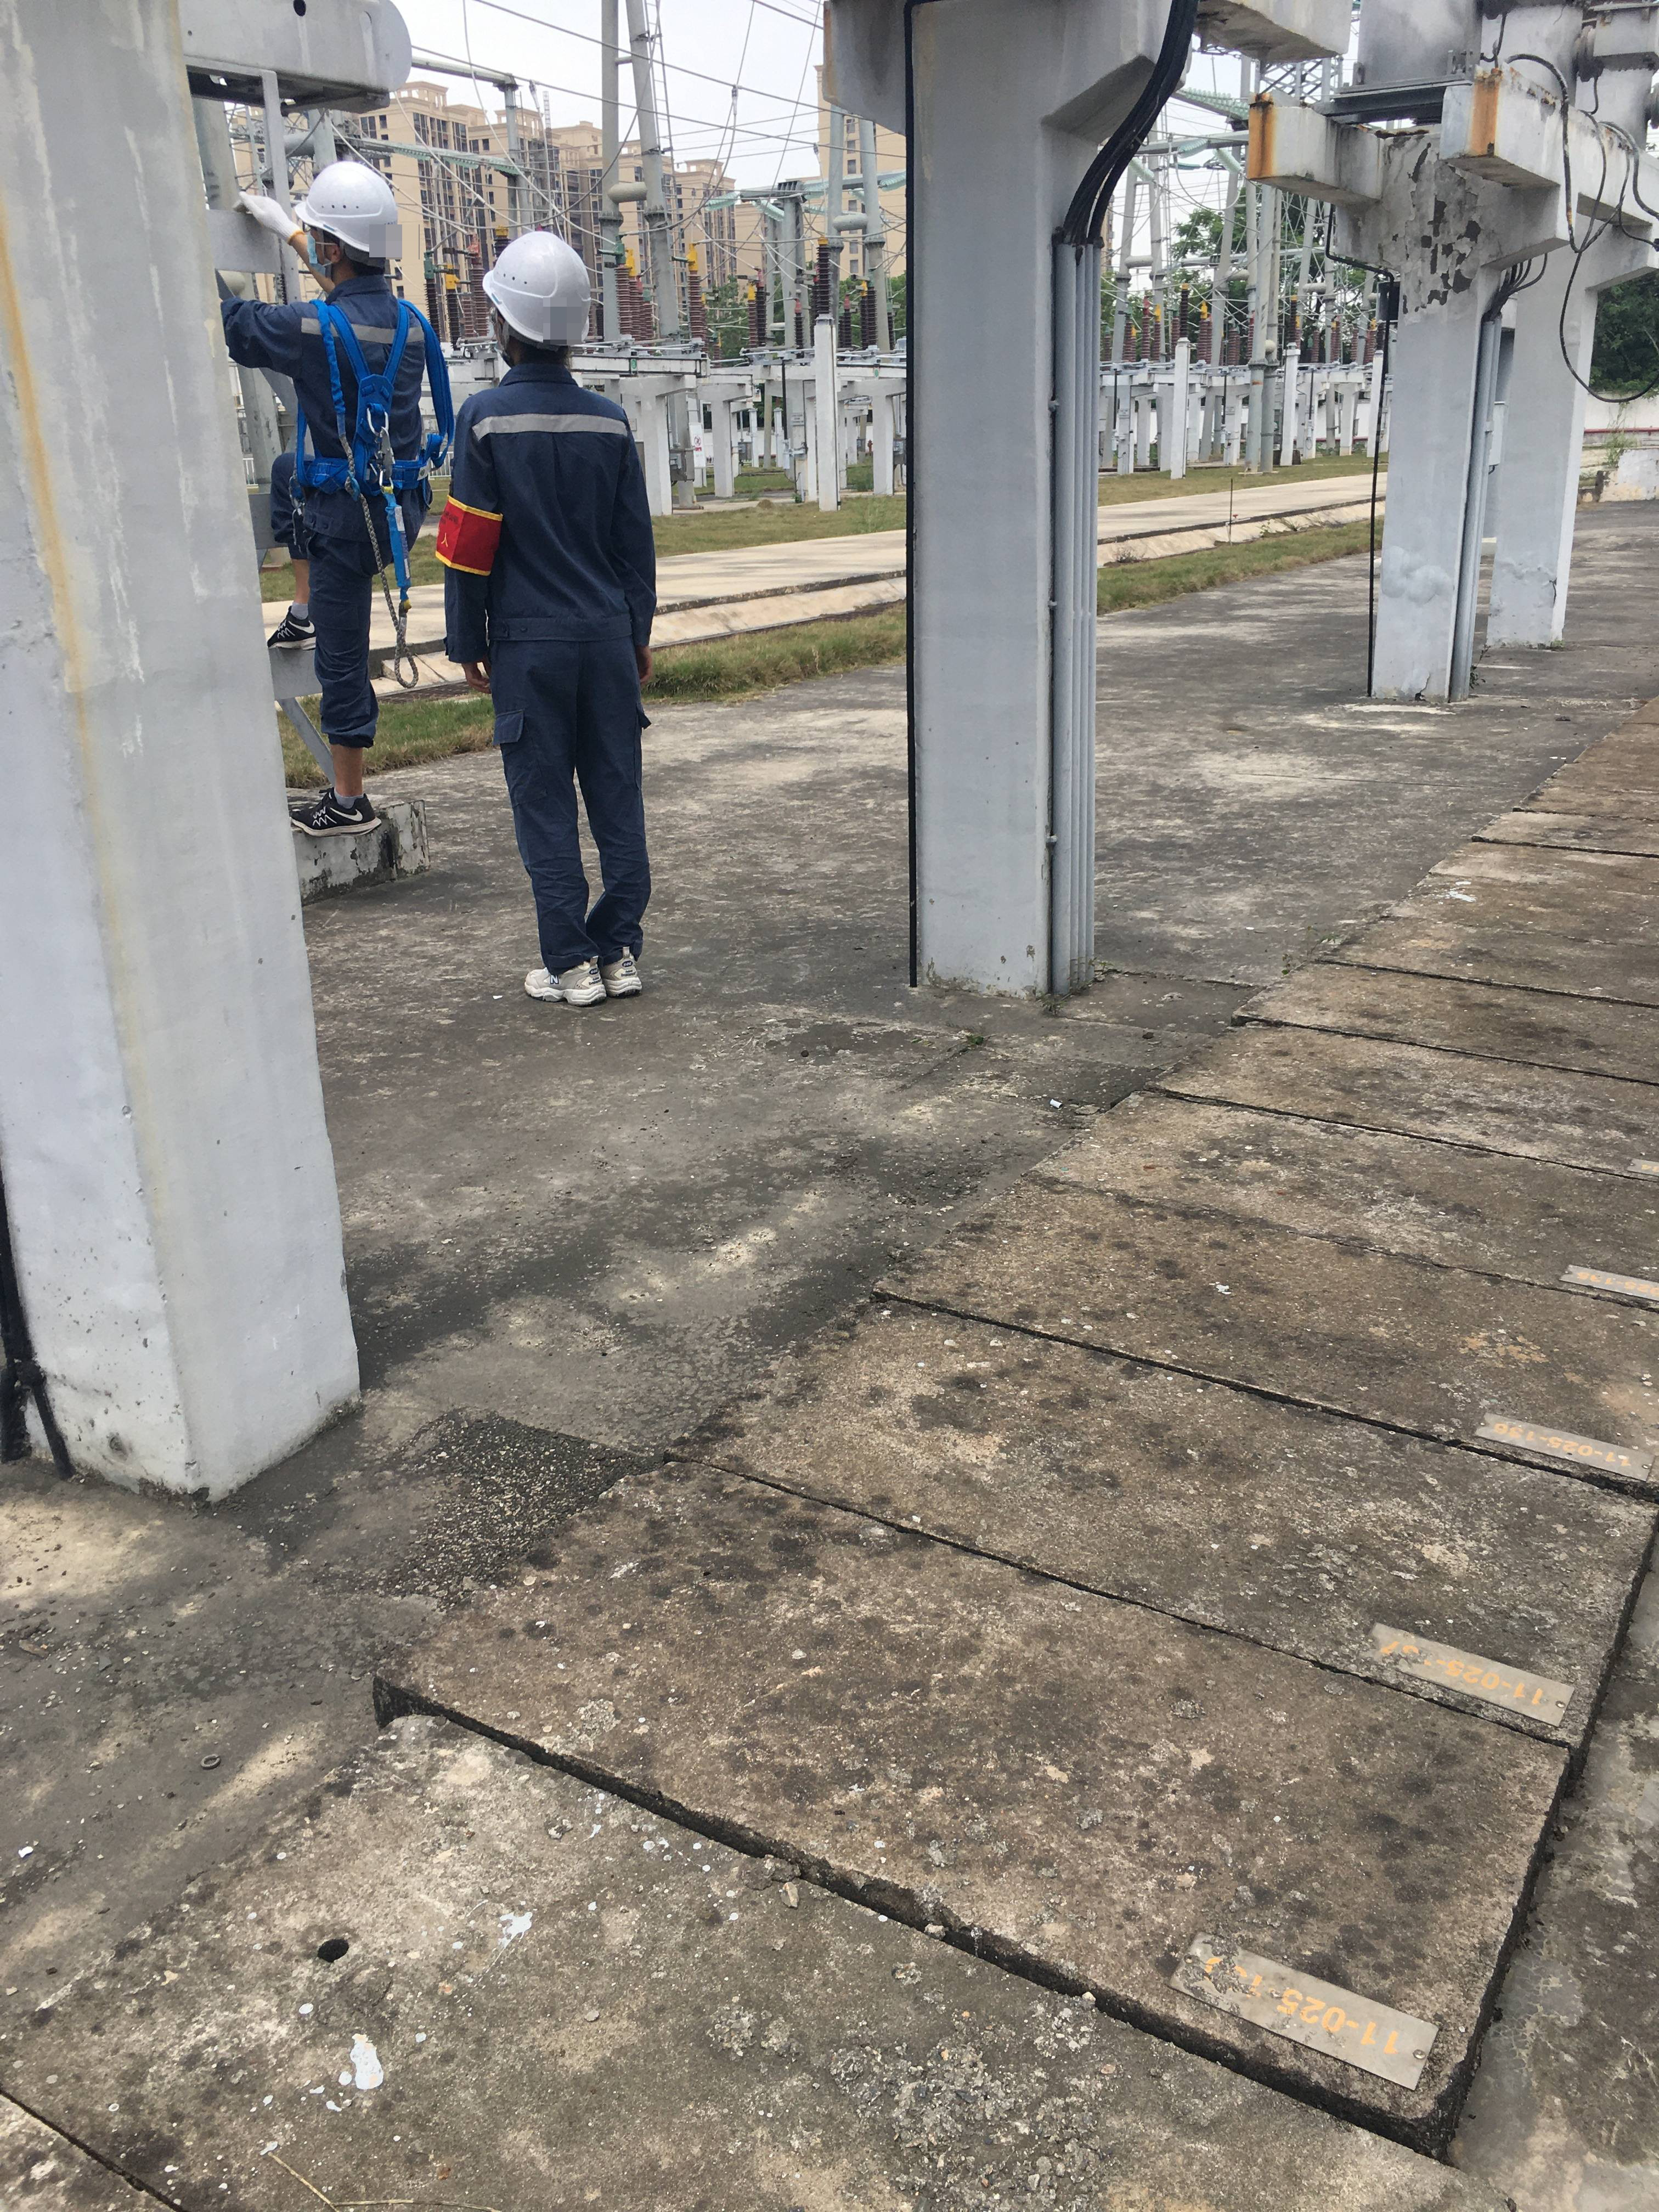badge: (427, 492, 507, 579)
downsuit: (488, 666, 661, 959), (269, 466, 414, 758)
halt: (479, 227, 597, 353), (291, 161, 404, 277)
hand: (461, 653, 488, 699)
inear: (314, 226, 344, 274)
person: (428, 224, 678, 996), (224, 156, 445, 833)
safebelt: (279, 289, 458, 698)
upsuit: (430, 370, 667, 647), (218, 276, 449, 528)
wglove: (233, 185, 306, 247)
wrongbottom: (318, 693, 381, 801), (278, 526, 311, 610)
